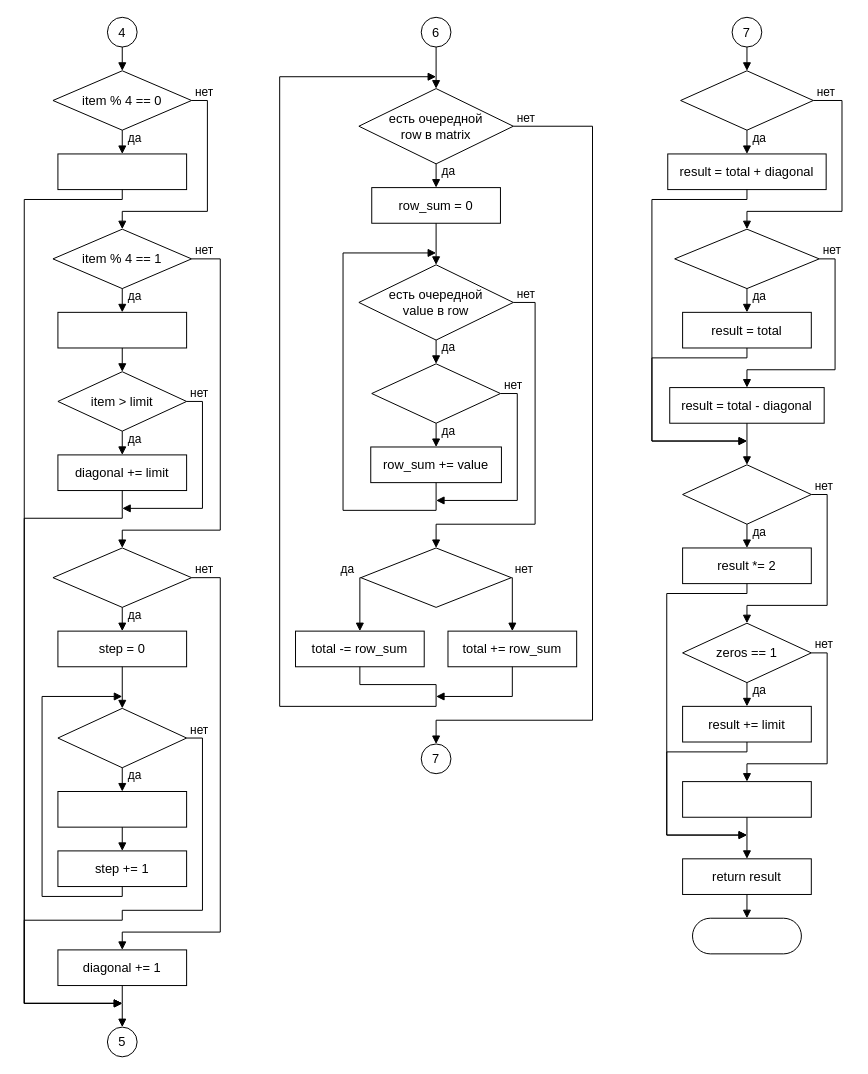
Some shapes in this 868 by 1074 pixel diagram are drawn without their labels. Each missing label, with the centre of its shape:
"diagonal += item" belongs at (x=122, y=171).
"diagonal += step" belongs at (x=122, y=809).
"diagonal -= item" belongs at (x=122, y=329).
"evens == odds" belongs at (x=746, y=258).
"evens > odds" belongs at (x=746, y=100).
"item % 4 == 2" belongs at (x=122, y=577).
"result -= zeros" belongs at (x=746, y=799).
"row_sum > limit" belongs at (x=435, y=577).
"step < 2" belongs at (x=122, y=737).
"value > 0" belongs at (x=435, y=393).
"zeros == 0" belongs at (x=746, y=494).
"Конец" belongs at (x=746, y=935).
